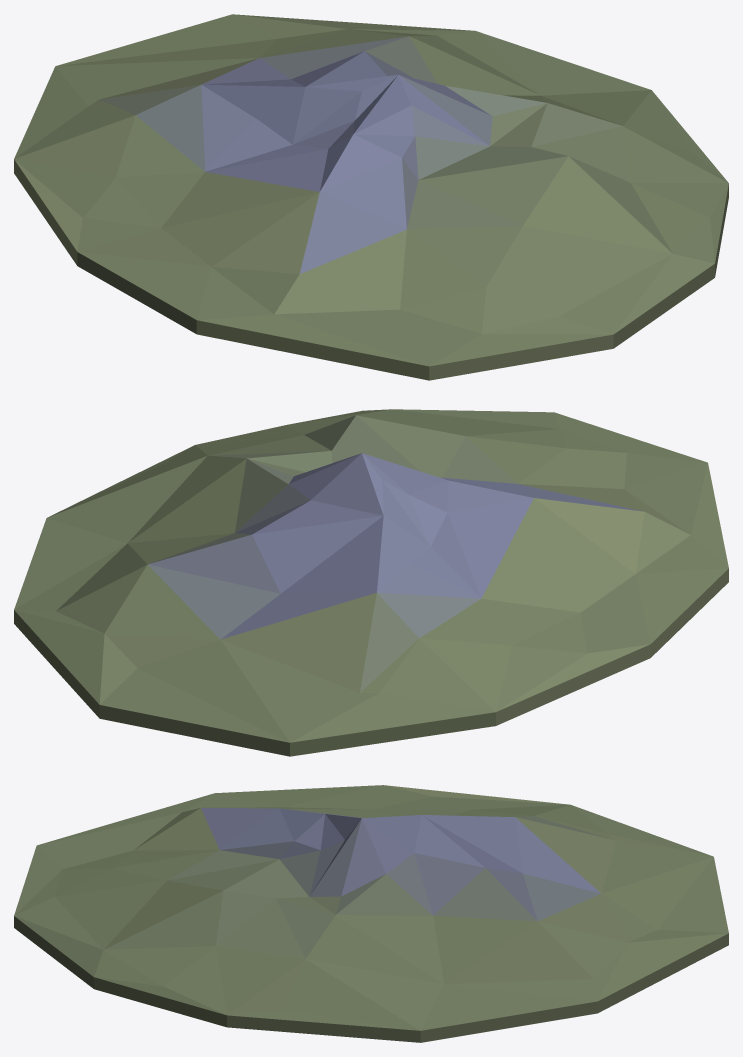
Rendered from massif_valley_guard.glb.
3 views of the same model, one above another, from view 1: azimuth 30°, elevation 25°; view 2: azimuth 150°, elevation 25°; view 3: azimuth 270°, elevation 25° (orthographic). The views are drawn at different scales.
Parts seen in each view (by area): view 1: massif_valley_guard; view 2: massif_valley_guard; view 3: massif_valley_guard.
Part boxes in pixels (x1,y1,x2,y2): massif_valley_guard: [14, 14, 728, 380]; massif_valley_guard: [14, 409, 728, 756]; massif_valley_guard: [14, 785, 728, 1042].
Bounding box in the file's own units: 482 × 96.8 × 592.
